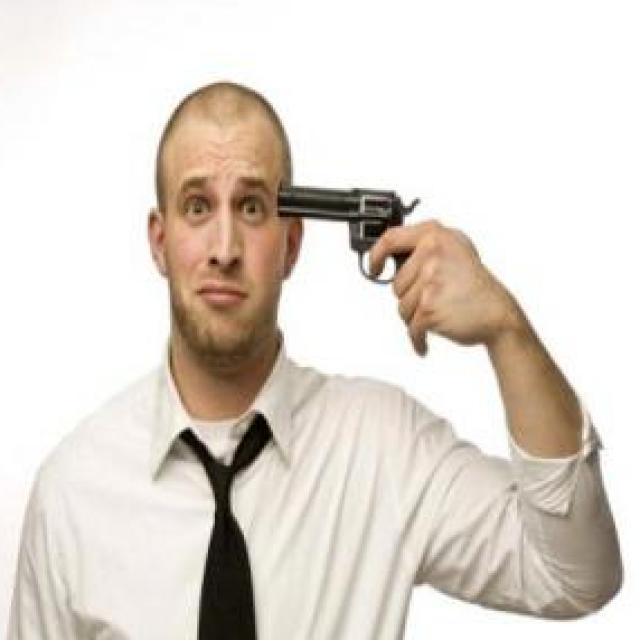pistol: (279, 179, 425, 289)
